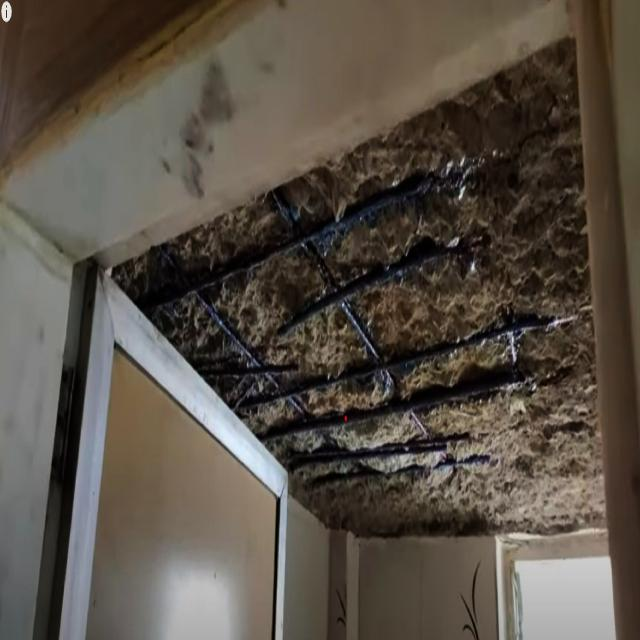Spalling: (109, 41, 602, 538)
